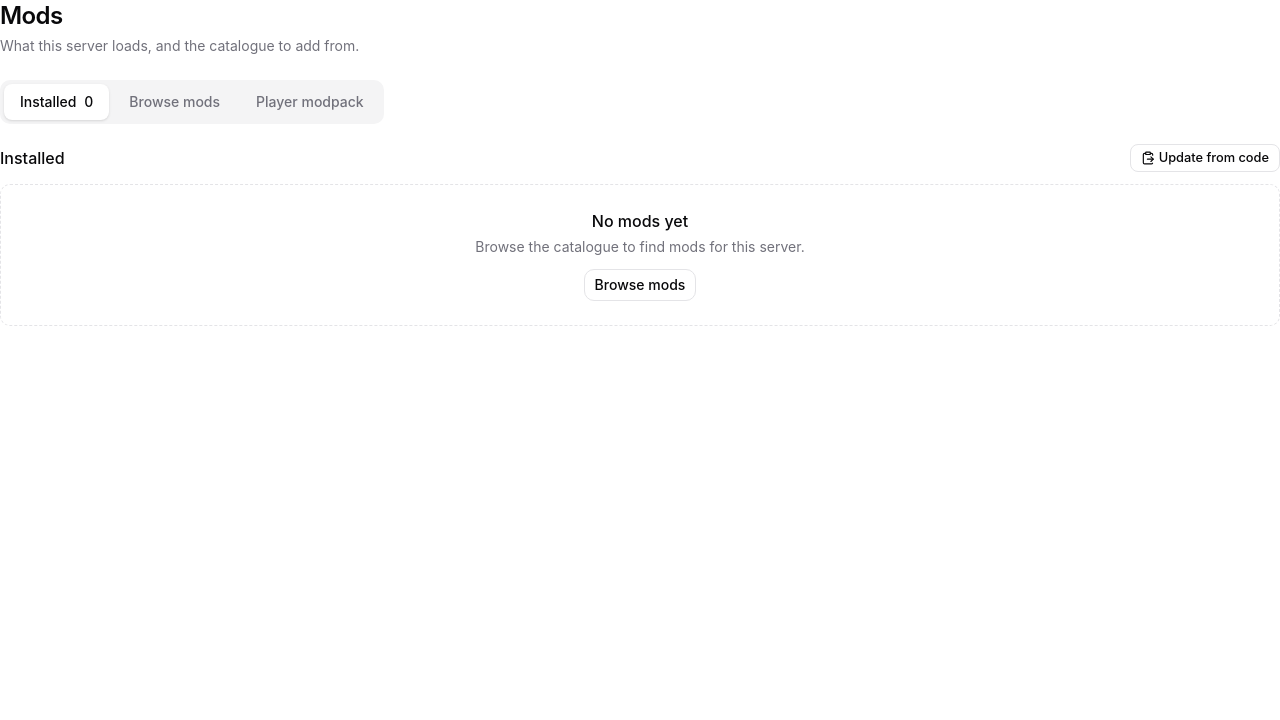
Test case: the mod screen › offers no install when everything required is already there
What coordinates should you click on to do the following:
click the tab "Browse mods"
I would click on:
 (175, 102)
Its box is left=113, top=84, right=236, bottom=120.
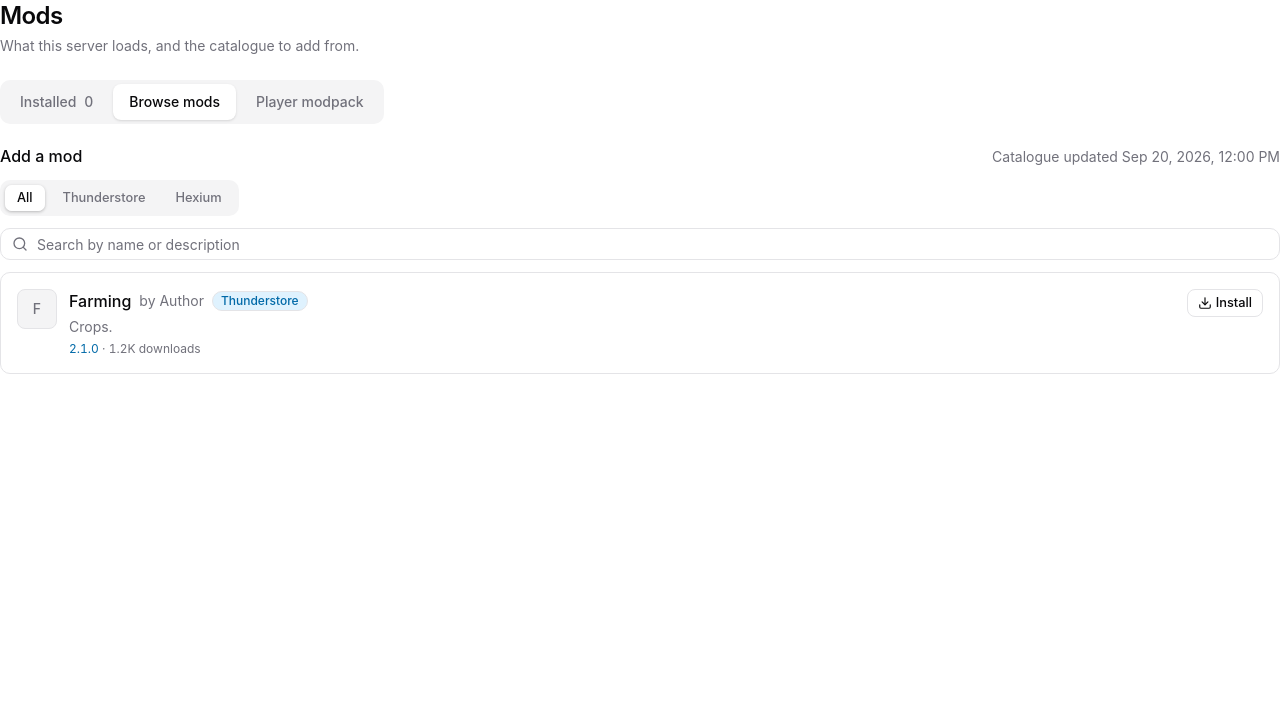
What coordinates should you click on to do the following:
click the button "Install"
I would click on:
 (1225, 303)
Its box is left=1187, top=289, right=1263, bottom=317.
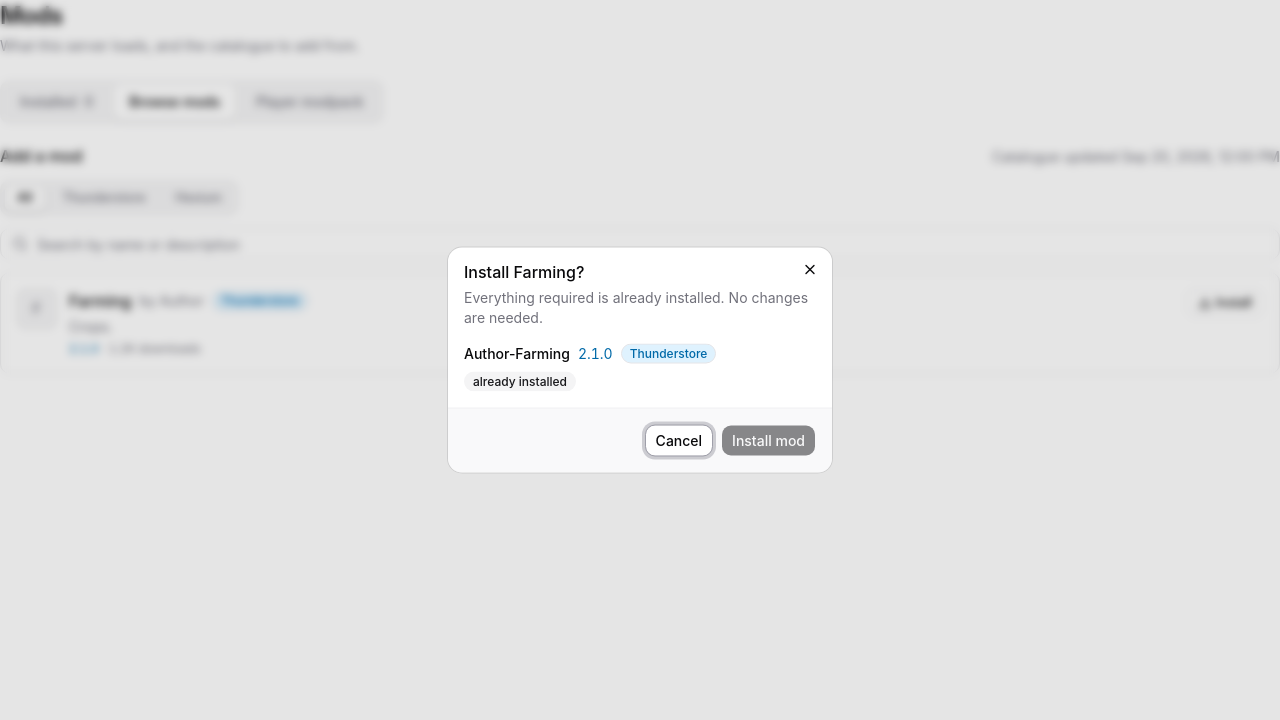
Result: the dialog shows "Everything required is already installed." at left=464, top=288, right=808, bottom=326
